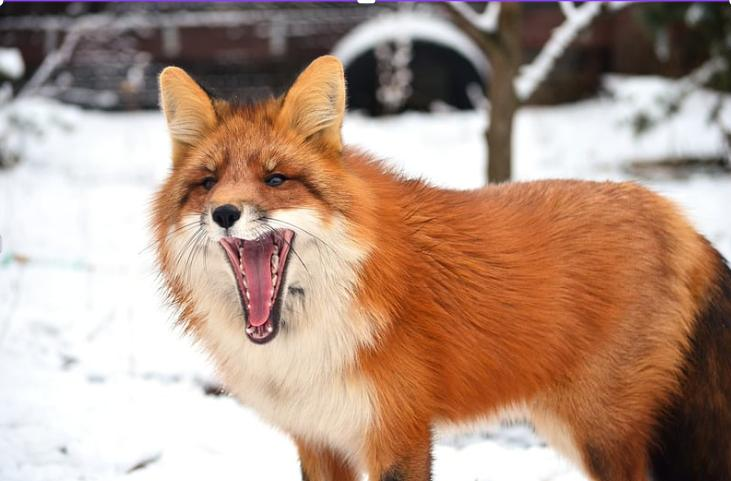fox: (126, 48, 730, 481)
